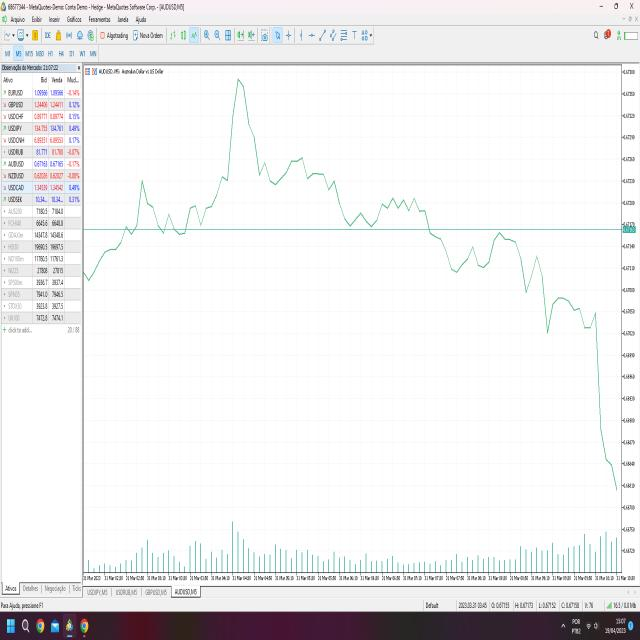oco: (202, 72, 280, 244)
